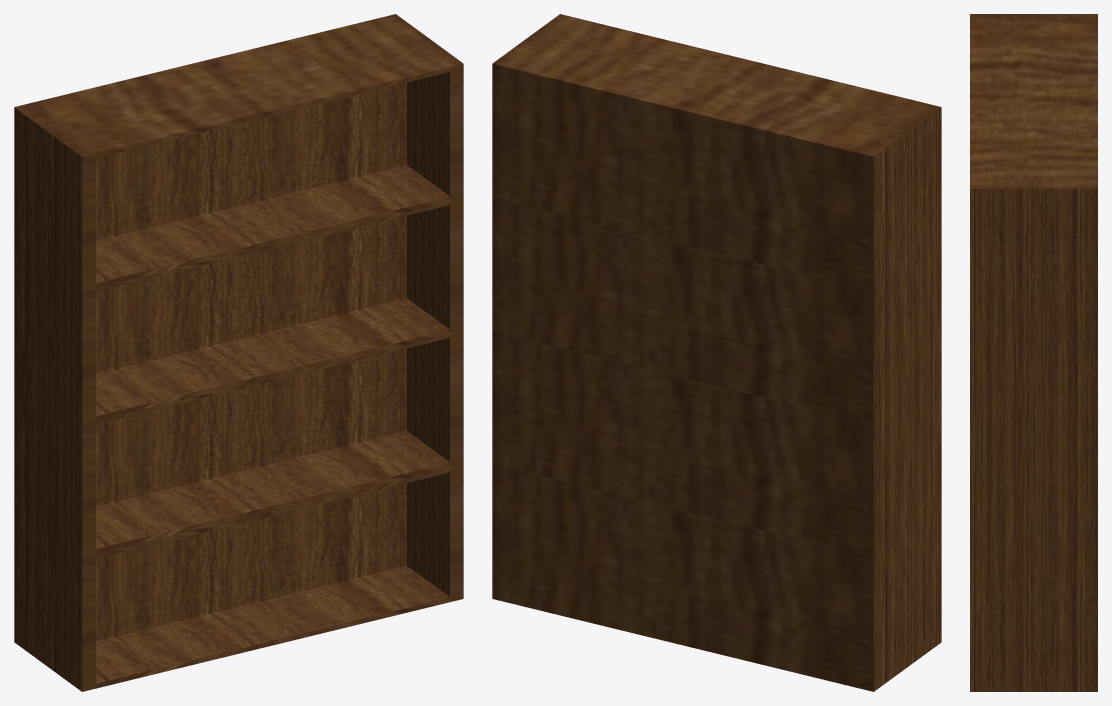
Rendered from bookshelf.fbx.
3 renders of one model, left to right at view 1: azimuth 30°, elevation 25°; view 2: azimuth 150°, elevation 25°; view 3: azimuth 270°, elevation 25°, orthographic. The views are drawn at different scales.
Visible parts, largest first — view 1: bookshelf; view 2: bookshelf; view 3: bookshelf.
Part boxes in pixels (x1,y1,x2,y2): bookshelf: [14, 14, 463, 691]; bookshelf: [492, 14, 941, 691]; bookshelf: [970, 14, 1097, 691].
Bounding box in the file's own units: 14.1 × 18.9 × 4.35.
